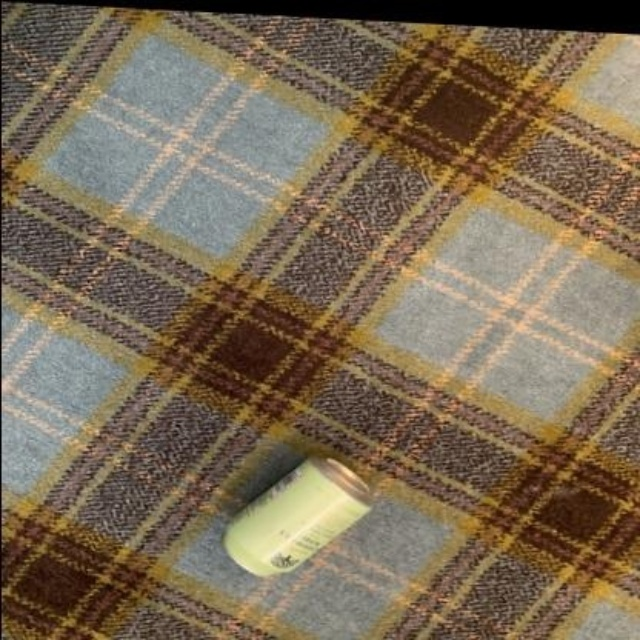trash: (223, 457, 369, 575)
